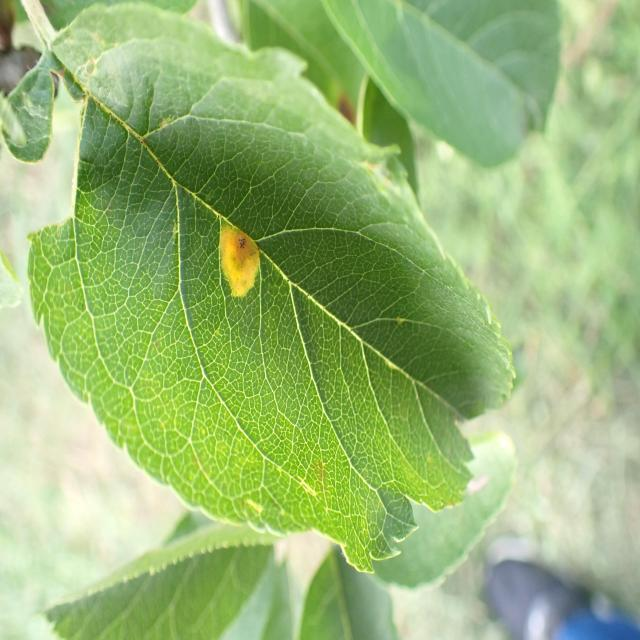rust: (25, 1, 516, 578)
